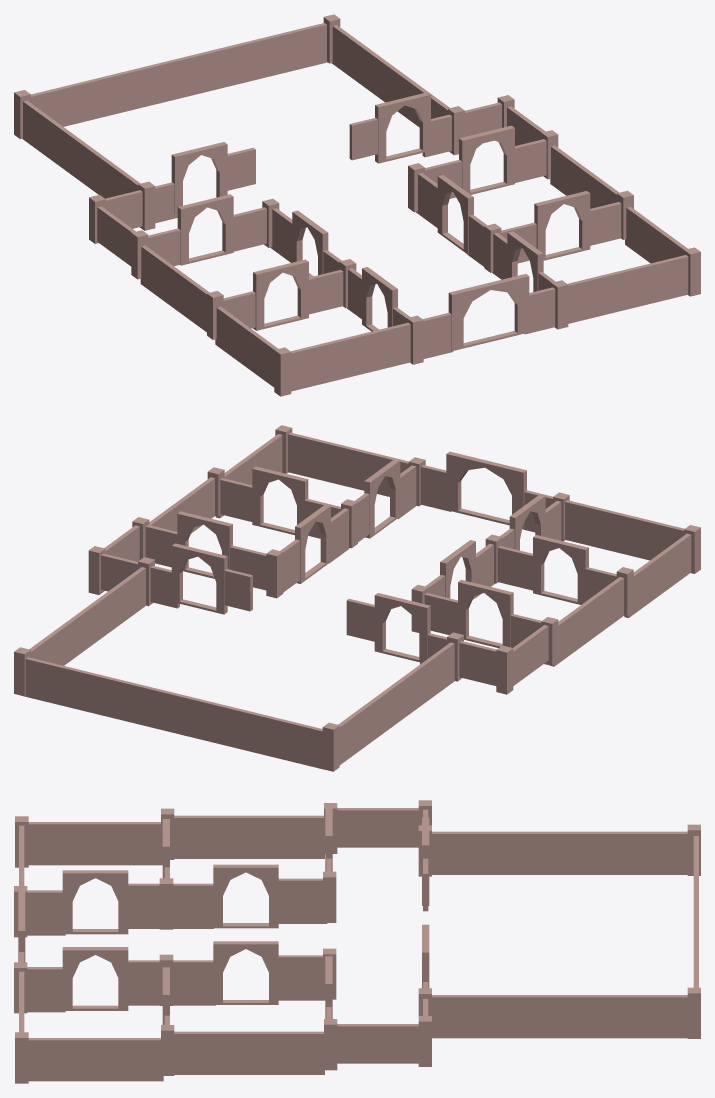
File: ChurchExteriorWalls.fbx
The picture shows the model from 3 angles, top to bottom: view 1: azimuth 30°, elevation 25°; view 2: azimuth 150°, elevation 25°; view 3: azimuth 270°, elevation 25°; orthographic projection. The views are drawn at different scales.
Parts seen in each view (by area): view 1: pCube463; view 2: pCube463; view 3: pCube463.
Boxes of the visible parts, x1,y1,x2,y2 form: pCube463: (14,14,700,396); pCube463: (14,425,700,771); pCube463: (14,800,700,1083).
Size of the model in its own units: 20.37 by 3.8 by 26.65.
